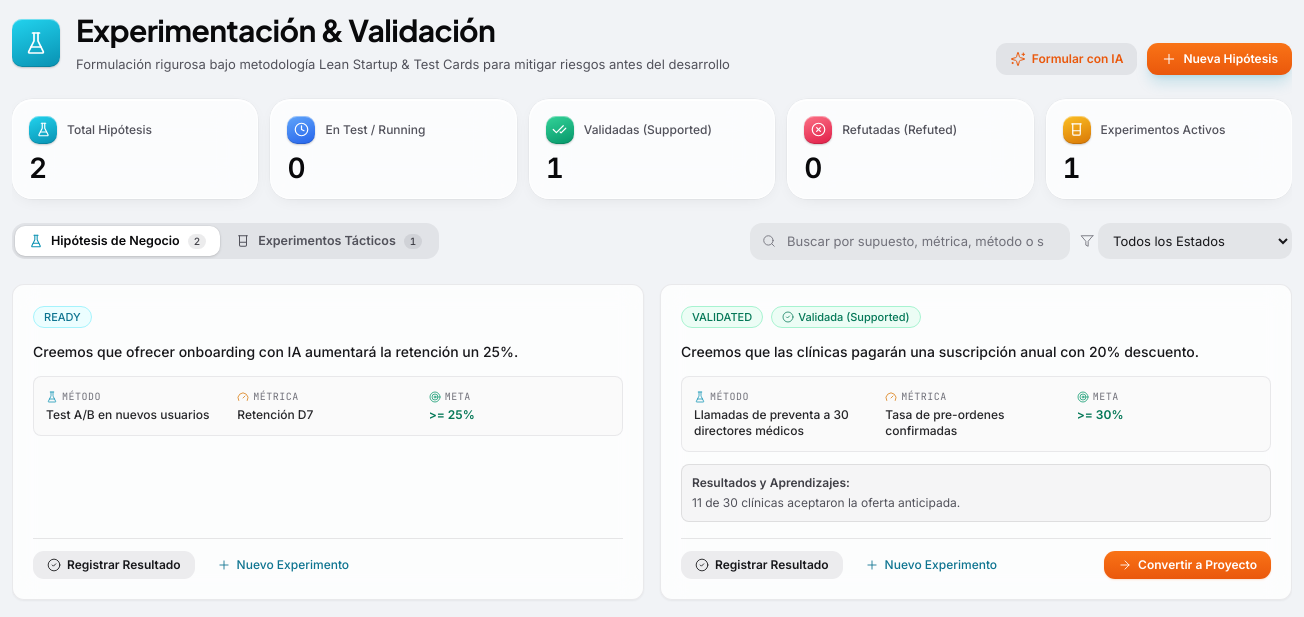
Test: HypothesesPage › muestra las métricas KPI y filtra hipótesis por búsqueda de texto
Expected: the text "Total Hipótesis" is shown, x1=67 y1=121 x2=152 y2=139
Expected: the text "Validadas (Supported)" is shown, x1=584 y1=121 x2=712 y2=139
Type "clínicas" into the search field with placeholder "Buscar por supuesto, métrica, método o segmento..." at [910, 241], box x1=750 y1=223 x2=1070 y2=260
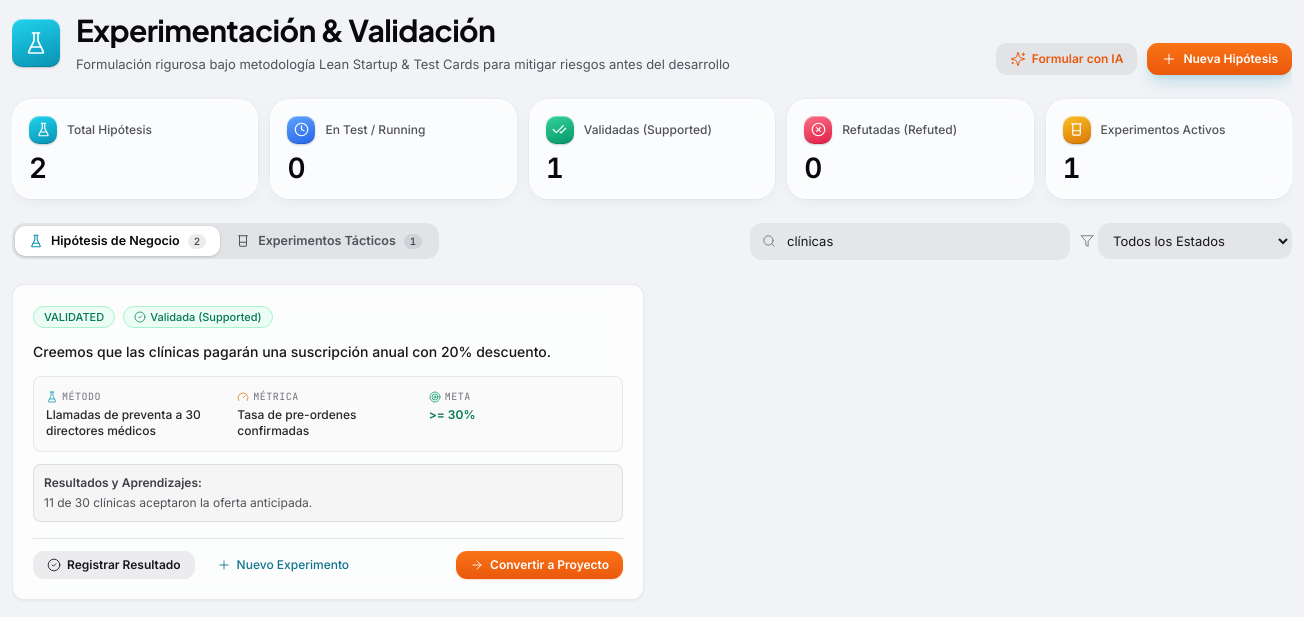
Expected: the text "Creemos que las clínicas pagarán una suscripción anual con 20% descuento." is shown, x1=33 y1=341 x2=623 y2=364
Expected: the text "Creemos que ofrecer onboarding con IA aumentará la retención un 25%." is gone
